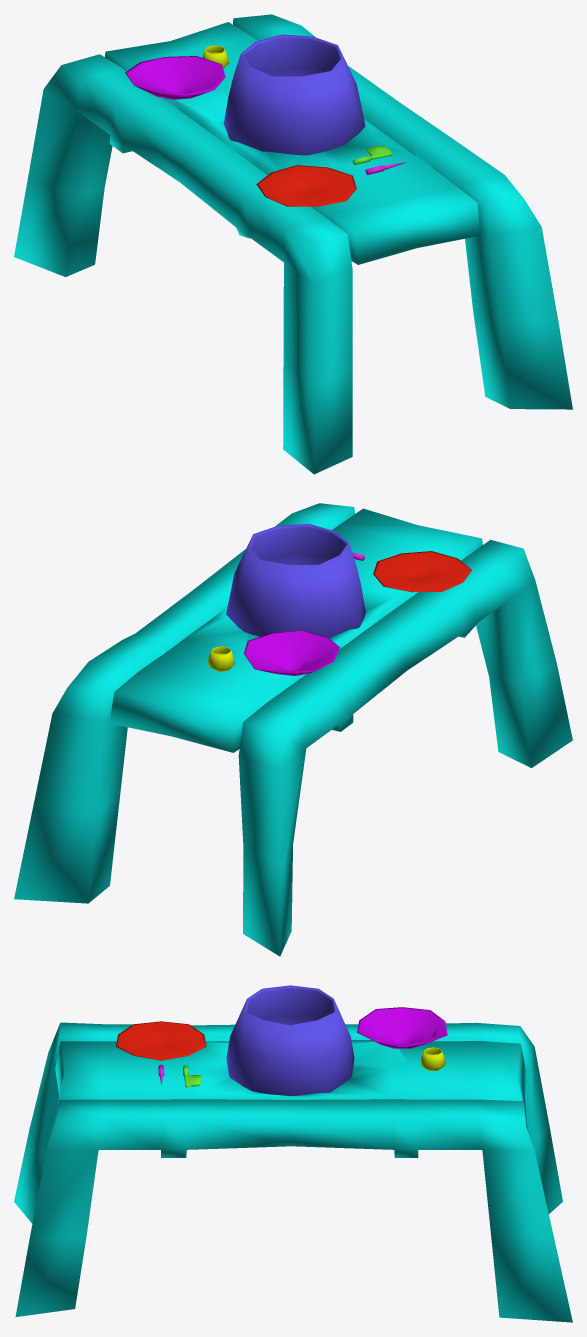
The model's file is tout.fbx.
3 views of the same model, one above another, from view 1: azimuth 30°, elevation 25°; view 2: azimuth 150°, elevation 25°; view 3: azimuth 270°, elevation 25° (orthographic). The views are drawn at different scales.
Parts seen in each view (by area): view 1: assiet.001; view 2: assiet.001; view 3: assiet.001.
Part boxes in pixels (box(x1,y1,x2,y2)): assiet.001: box(14, 14, 572, 474); assiet.001: box(14, 503, 572, 956); assiet.001: box(14, 985, 572, 1322).
Size of the model in its own units: 239 by 241 by 475.
